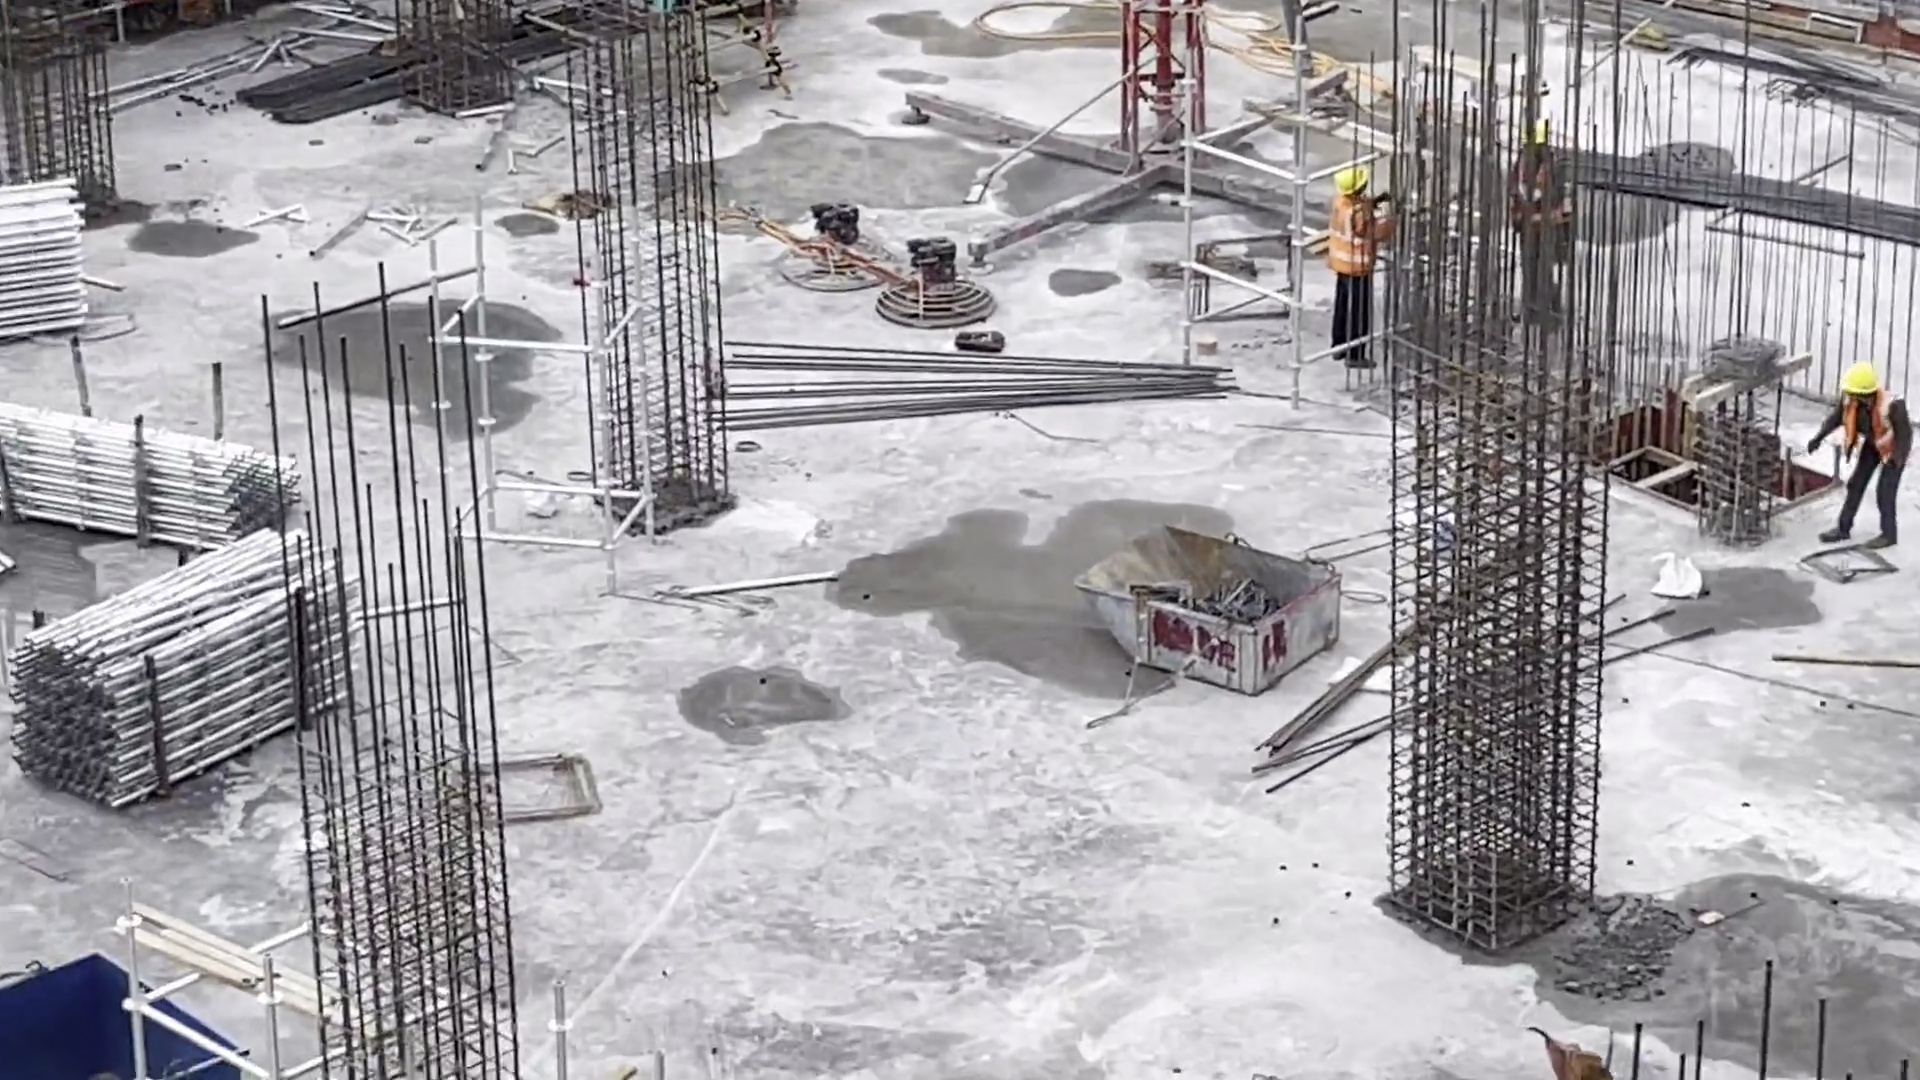helmet: (1329, 156, 1378, 203), (1835, 356, 1888, 396)
hopper: (1074, 522, 1354, 695)
person: (1821, 347, 1918, 559), (1508, 118, 1585, 342), (1322, 157, 1386, 384)
rebar: (750, 319, 1235, 414), (1608, 132, 1920, 254)
scaffold: (44, 530, 338, 760), (9, 401, 296, 542)
vest: (1840, 404, 1912, 469), (1326, 208, 1381, 281)
